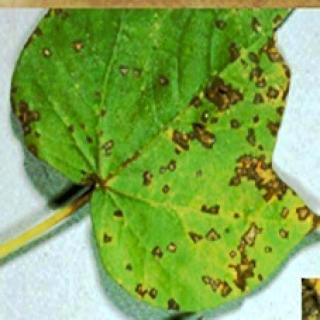blight: (150, 38, 318, 272), (5, 7, 136, 163)
